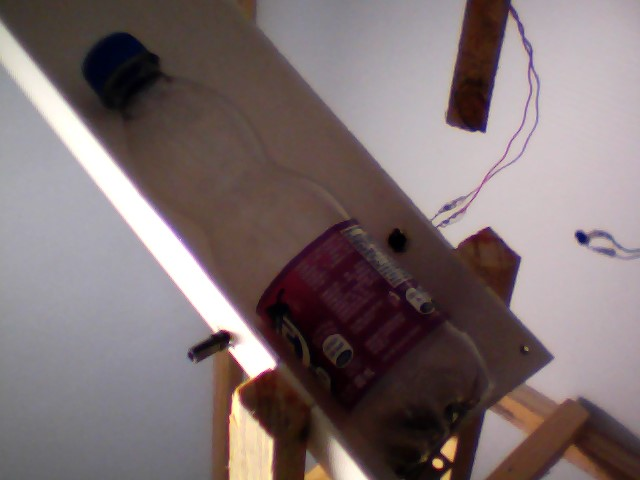plastico: (78, 28, 497, 471)
